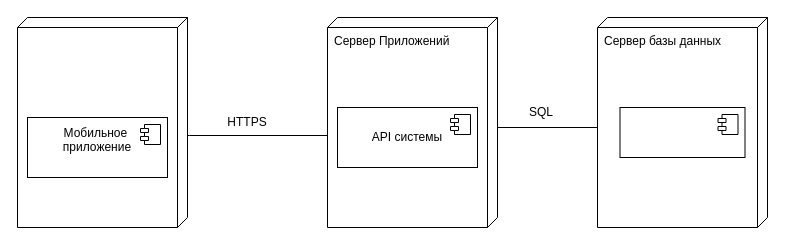
This 785x245 diagram has some shape labels left out. The box of each missing label's shape, as (x1, y1, x2, y2) in pixels:
Мобильное устройство: (16, 16, 188, 228)
СУБД: (619, 106, 745, 158)
